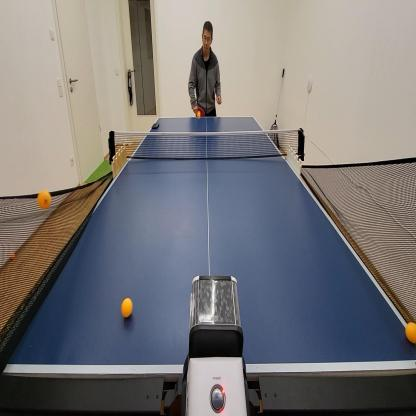Ball: (404, 316, 416, 346), (37, 189, 52, 211), (121, 296, 134, 319), (10, 251, 16, 261), (197, 110, 201, 119)
